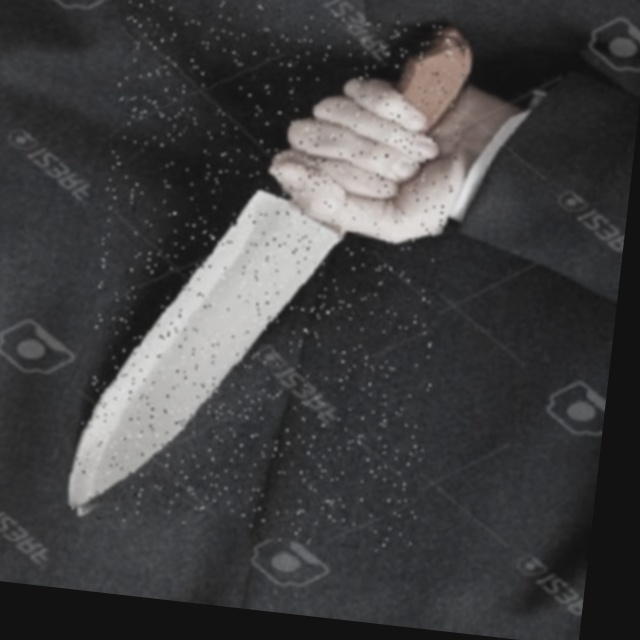Sharp-Object: (69, 0, 471, 555)
